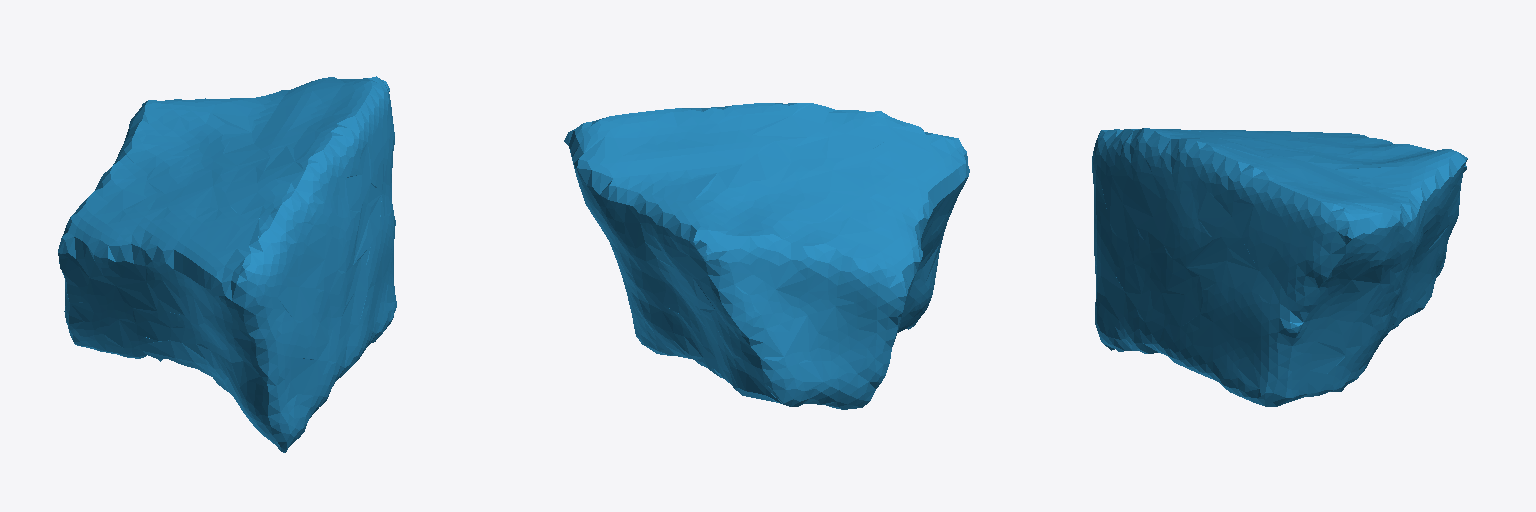
Rendered from Model_108_RH__Parietal_area_PF_(PF).obj.
The picture shows the model from 3 angles: view 1: azimuth 30°, elevation 25°; view 2: azimuth 150°, elevation 25°; view 3: azimuth 270°, elevation 25°; orthographic projection.
Size of the model in its own units: 2.84 by 1.97 by 2.74.